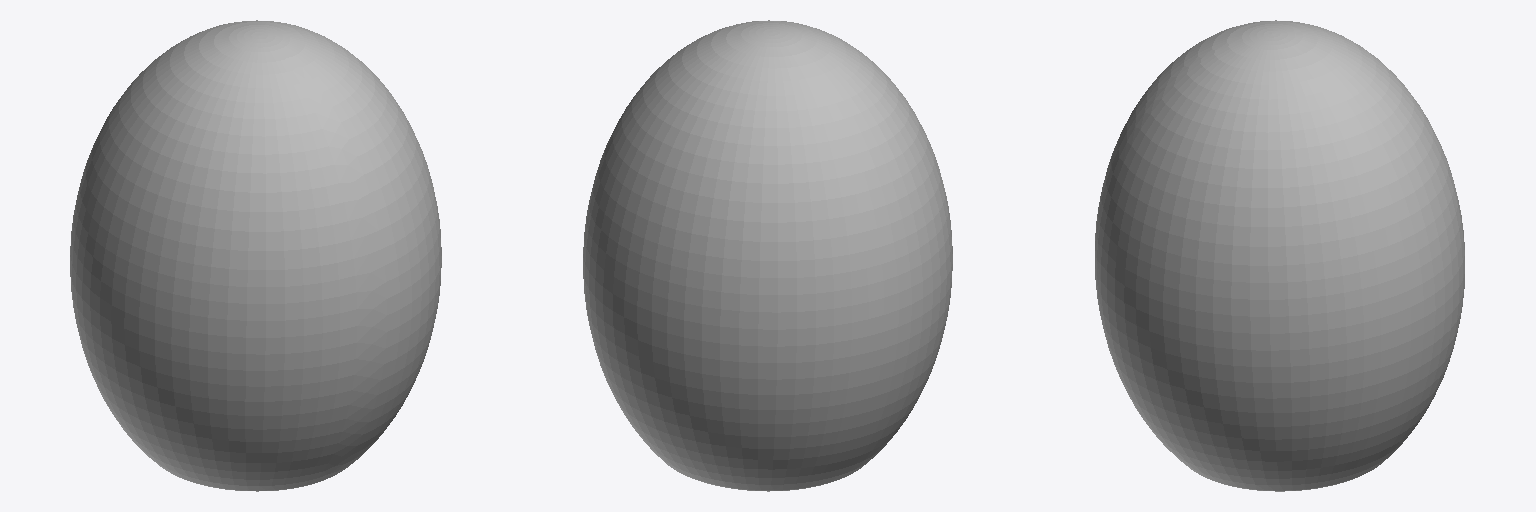
The robot description file, URDF, robot "root":
<robot name="root">
  <link name="link_Egg_convex_piece_0">
    <inertial>
      <origin xyz="0 0 0" rpy="0 0 0"/>
      <mass value="2.14E-01"/>
      <inertia ixx="1.59E-04" ixy="4.62E-10" ixz="3.24E-09" iyy="1.59E-04" iyz="1.26E-06" izz="1.19E-04"/>
    </inertial>
    <visual>
      <origin xyz="0 0 0" rpy="0 0 0"/>
      <geometry>
        <mesh filename="Egg_convex_piece_0.obj" scale="1.0000E+00 1.0000E+00 1.0000E+00"/>
      </geometry>
      <material name="">
        <color rgba="7.50E-01 7.50E-01 7.50E-01 1"/>
      </material>
    </visual>
    <collision>
      <origin xyz="0 0 0" rpy="0 0 0"/>
      <geometry>
        <mesh filename="Egg_convex_piece_0.obj" scale="1.0000E+00 1.0000E+00 1.0000E+00"/>
      </geometry>
    </collision>
  </link>
</robot>

--- Render facts (derived) ---
The picture shows the robot from 3 angles, left to right: view 1: azimuth 30°, elevation 25°; view 2: azimuth 150°, elevation 25°; view 3: azimuth 270°, elevation 25°; orthographic projection.
Model root with 1 links and 0 joints (none), rooted at link_Egg_convex_piece_0, posed all joints at 0.
Links seen in each view (by area): view 1: link_Egg_convex_piece_0; view 2: link_Egg_convex_piece_0; view 3: link_Egg_convex_piece_0.
Boxes of the visible links, x1,y1,x2,y2 form: link_Egg_convex_piece_0: (70,20,441,491); link_Egg_convex_piece_0: (583,20,952,491); link_Egg_convex_piece_0: (1095,20,1464,491).
Size in the robot's own frame: 0.0738 by 0.0738 by 0.0919 metres.
1 mesh visuals loaded from 1 distinct referenced files (1 OBJ).
